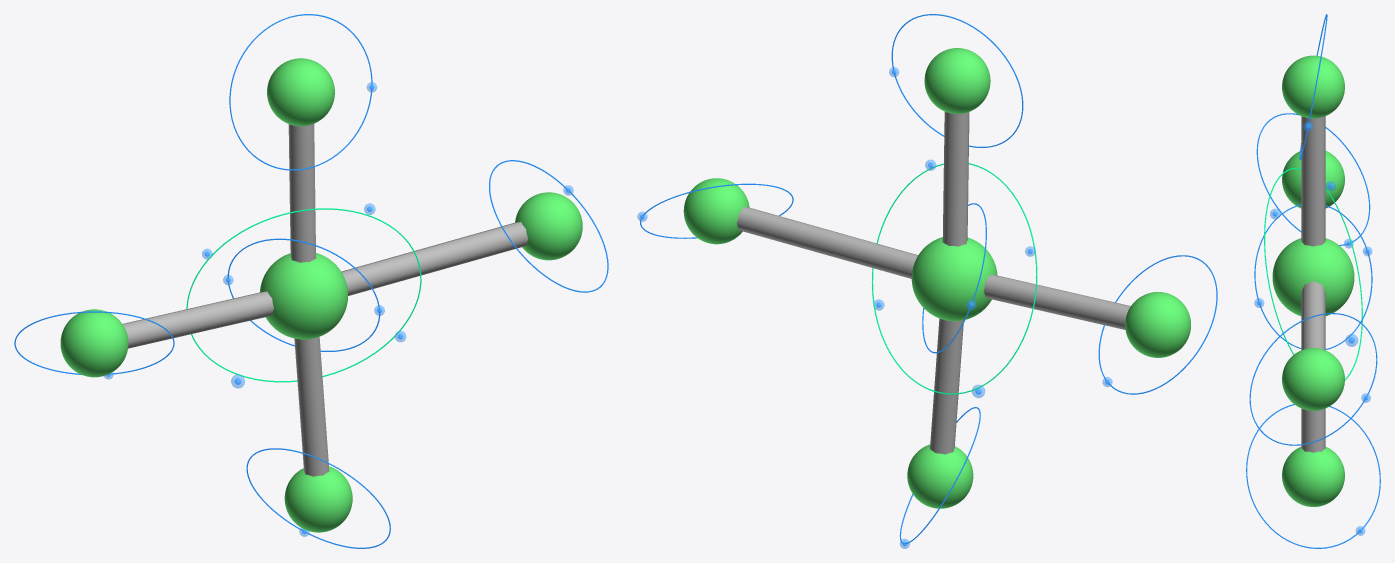
3 renders of one model, left to right at view 1: azimuth 30°, elevation 25°; view 2: azimuth 150°, elevation 25°; view 3: azimuth 270°, elevation 25°, orthographic. The views are drawn at different scales.
Visible parts, largest first — view 1: H (×4), C, object 34, object 32, object 35, object 33, object 7, object 21, object 25; view 2: H (×4), C, object 34, object 32, object 33, object 35, object 7, object 21, object 17; view 3: H (×4), C, object 33, object 34, object 35, object 7, object 29, object 25, object 2, object 17, object 21.
Boxes of the visible parts, box(x1,y1,x2,y2) form: H (×4): box(60, 58, 582, 532); C: box(260, 253, 347, 339); object 34: box(341, 222, 528, 295); object 32: box(122, 291, 273, 348); object 35: box(294, 337, 329, 476); object 33: box(288, 124, 316, 262); object 7: box(186, 208, 421, 382); object 21: box(229, 14, 372, 170); object 25: box(489, 160, 608, 292); H (×4): box(683, 48, 1190, 508); C: box(911, 237, 997, 321); object 34: box(736, 207, 918, 278); object 32: box(983, 274, 1130, 329); object 33: box(942, 111, 969, 246); object 35: box(930, 318, 963, 454); object 7: box(871, 163, 1037, 394); object 21: box(891, 14, 1023, 147); object 17: box(1098, 255, 1217, 394); H (×4): box(1282, 55, 1344, 506); C: box(1272, 238, 1354, 315); object 33: box(1301, 116, 1325, 246); object 34: box(1301, 281, 1325, 349); object 35: box(1301, 408, 1325, 452); object 7: box(1264, 167, 1362, 380); object 29: box(1246, 404, 1380, 548); object 25: box(1249, 313, 1377, 445); object 2: box(1254, 204, 1372, 349); object 17: box(1256, 113, 1370, 245); object 21: box(1299, 14, 1327, 159).
Bounding box in the file's own units: 10.1 × 9.06 × 2.2.
